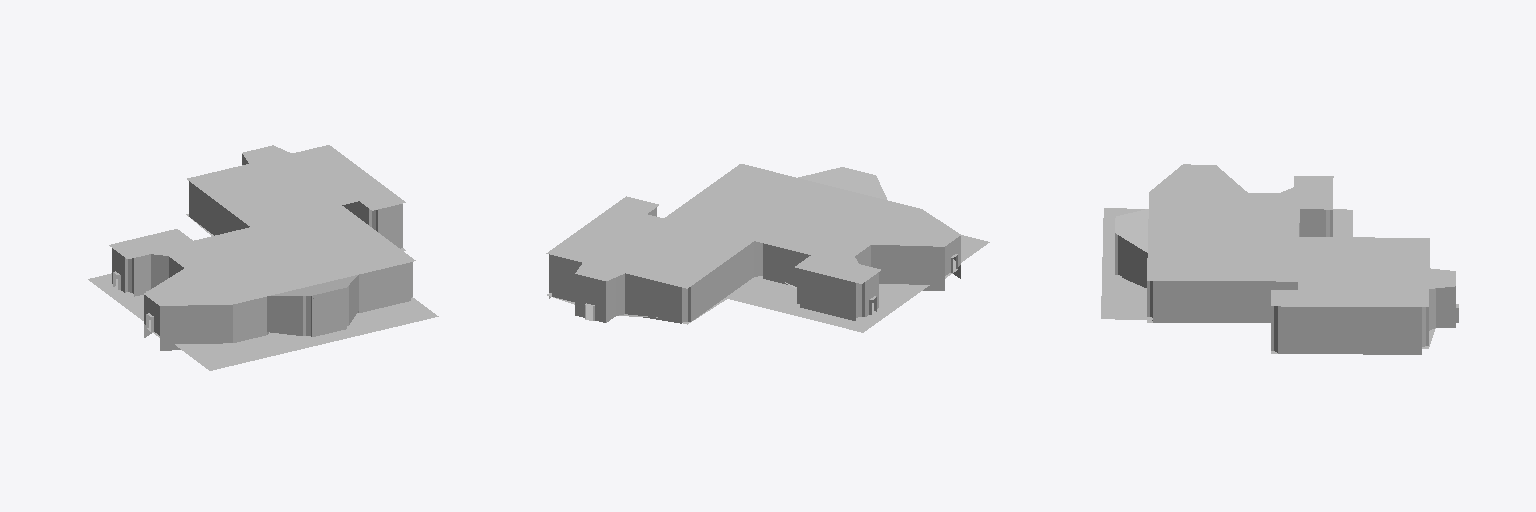
The model's file is peaches basement floor main.obj.
The picture shows the model from 3 angles: view 1: azimuth 30°, elevation 25°; view 2: azimuth 150°, elevation 25°; view 3: azimuth 270°, elevation 25°; orthographic projection.
Visible parts, largest first — view 1: Shape_IndexedFaceSet.006, Shape_IndexedFaceSet.059, Shape_IndexedFaceSet.005, Shape_IndexedFaceSet.008, Shape_IndexedFaceSet.009; view 2: Shape_IndexedFaceSet.006, Shape_IndexedFaceSet.059, Shape_IndexedFaceSet.005; view 3: Shape_IndexedFaceSet.006, Shape_IndexedFaceSet.059, Shape_IndexedFaceSet.005.
Part boxes in pixels (left/top/right/bottom): Shape_IndexedFaceSet.006: left=109, top=145, right=415, bottom=350; Shape_IndexedFaceSet.059: left=88, top=273, right=438, bottom=370; Shape_IndexedFaceSet.005: left=125, top=204, right=412, bottom=336; Shape_IndexedFaceSet.008: left=312, top=309, right=346, bottom=333; Shape_IndexedFaceSet.009: left=312, top=291, right=346, bottom=316; Shape_IndexedFaceSet.006: left=546, top=164, right=960, bottom=323; Shape_IndexedFaceSet.059: left=728, top=235, right=989, bottom=332; Shape_IndexedFaceSet.005: left=549, top=254, right=864, bottom=322; Shape_IndexedFaceSet.006: left=1115, top=164, right=1458, bottom=354; Shape_IndexedFaceSet.059: left=1101, top=208, right=1352, bottom=319; Shape_IndexedFaceSet.005: left=1115, top=210, right=1428, bottom=352.
Bounding box in the file's own units: 5.31 × 0.921 × 5.58.